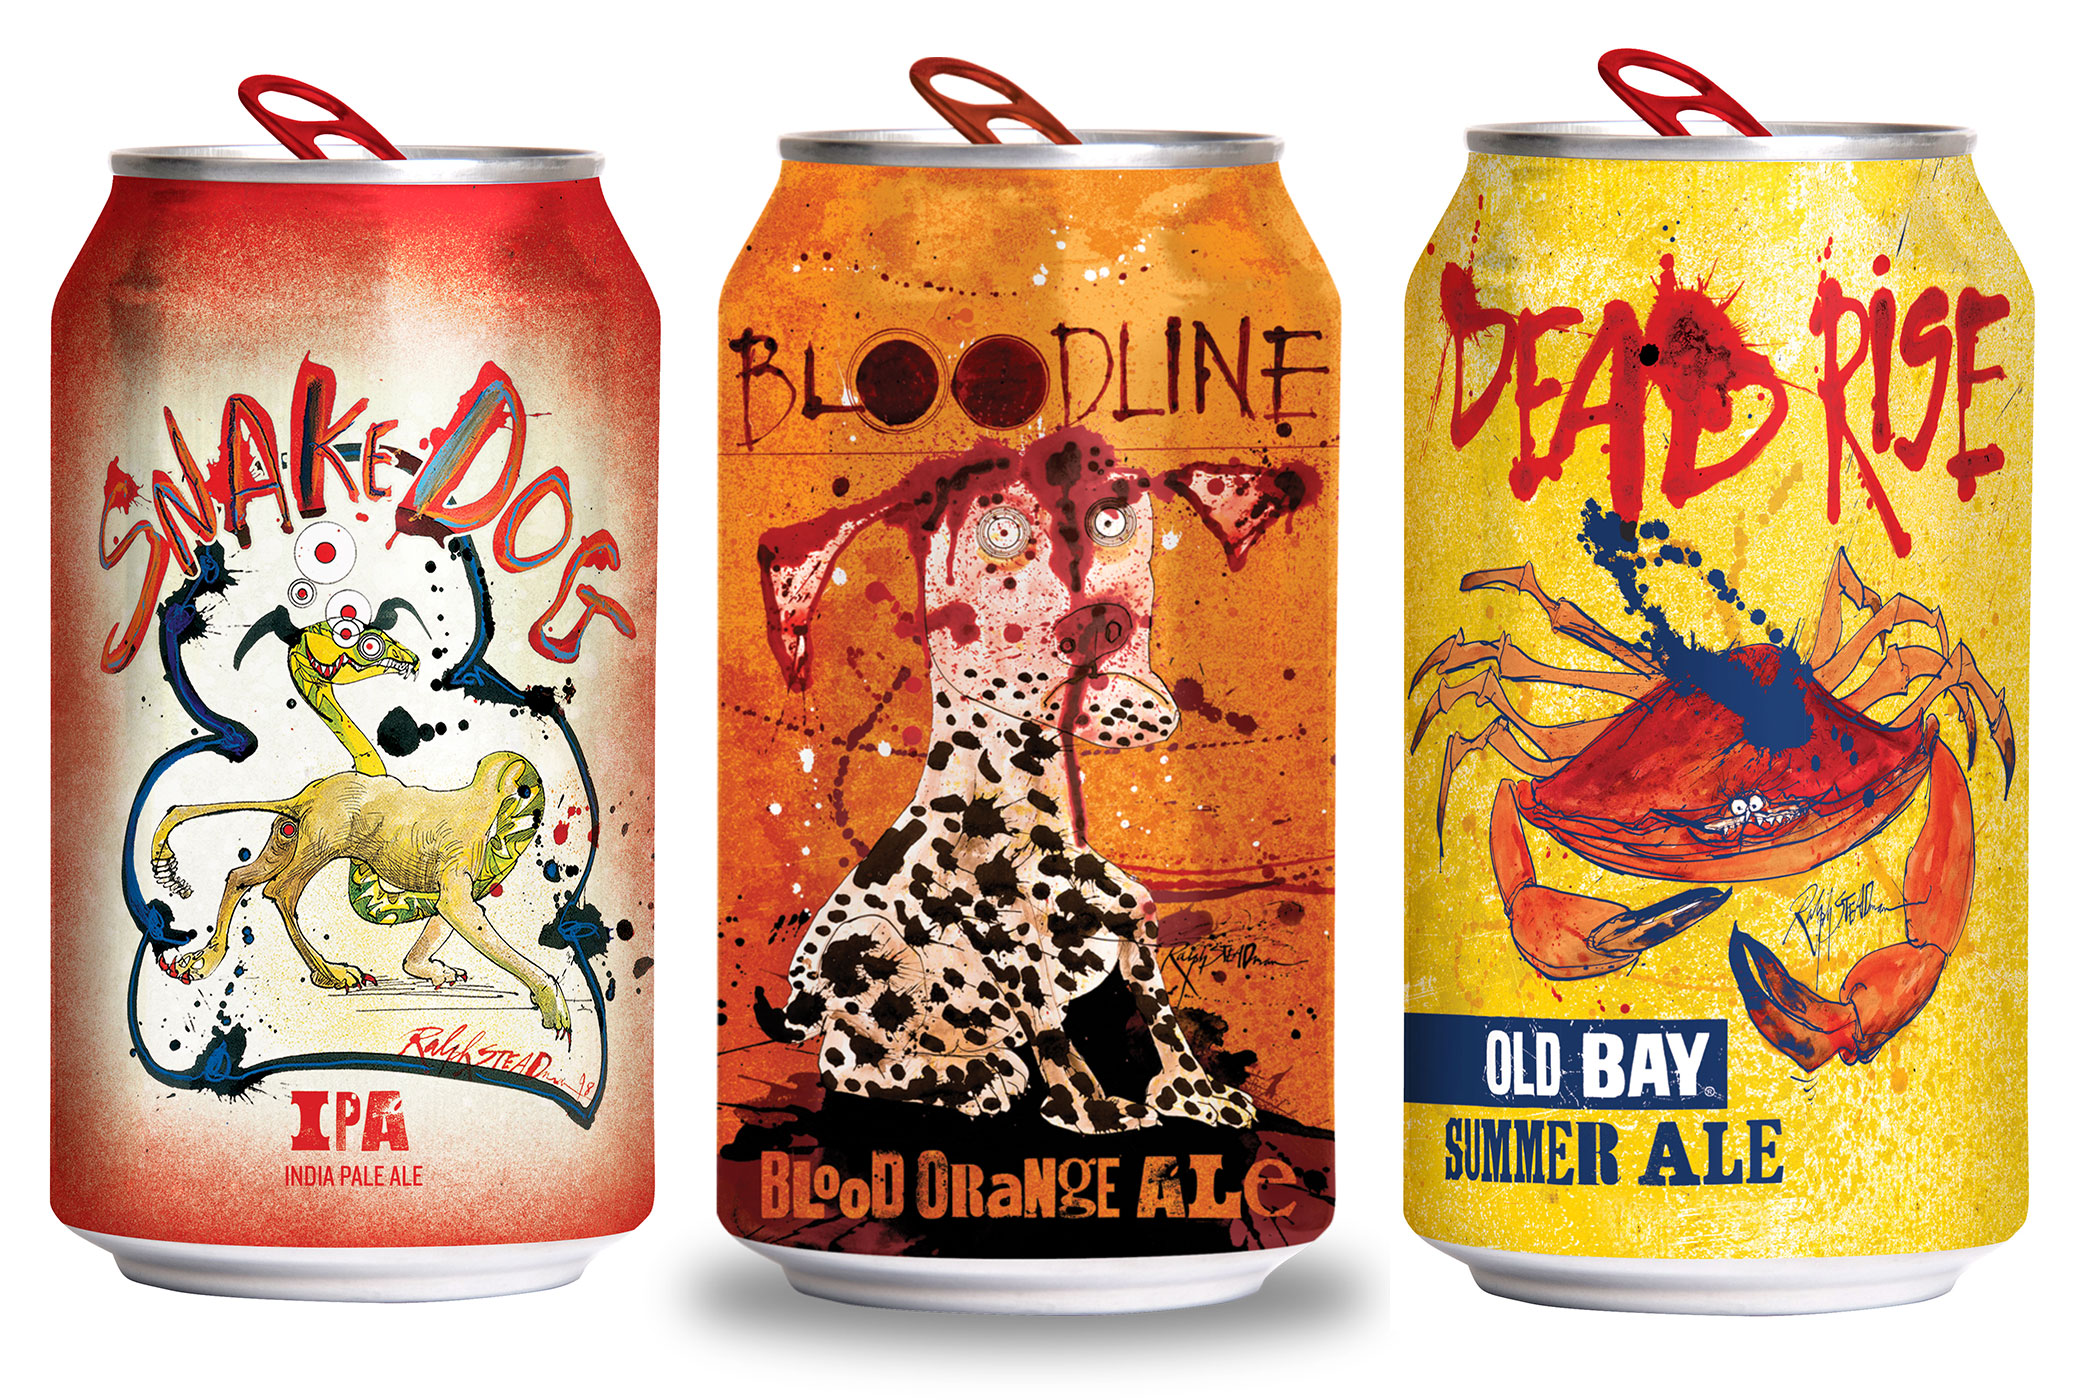beer can: (1406, 41, 2030, 1327), (719, 48, 1339, 1323), (48, 70, 642, 1298)
